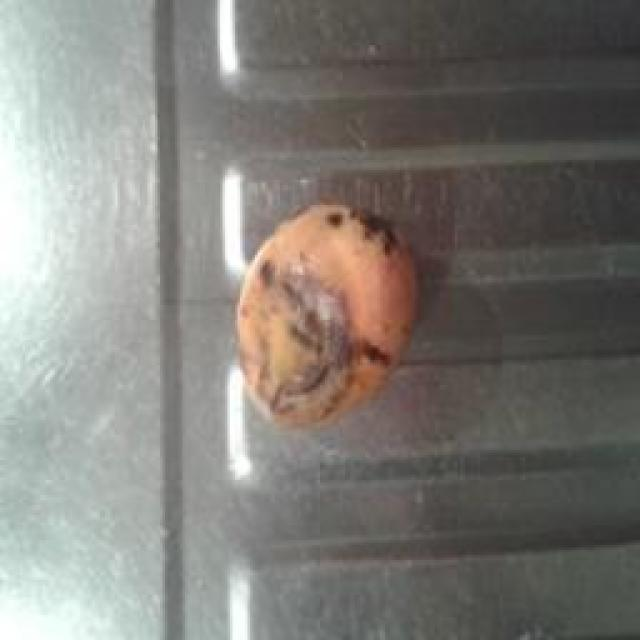Wet Waste: (214, 202, 448, 438)
